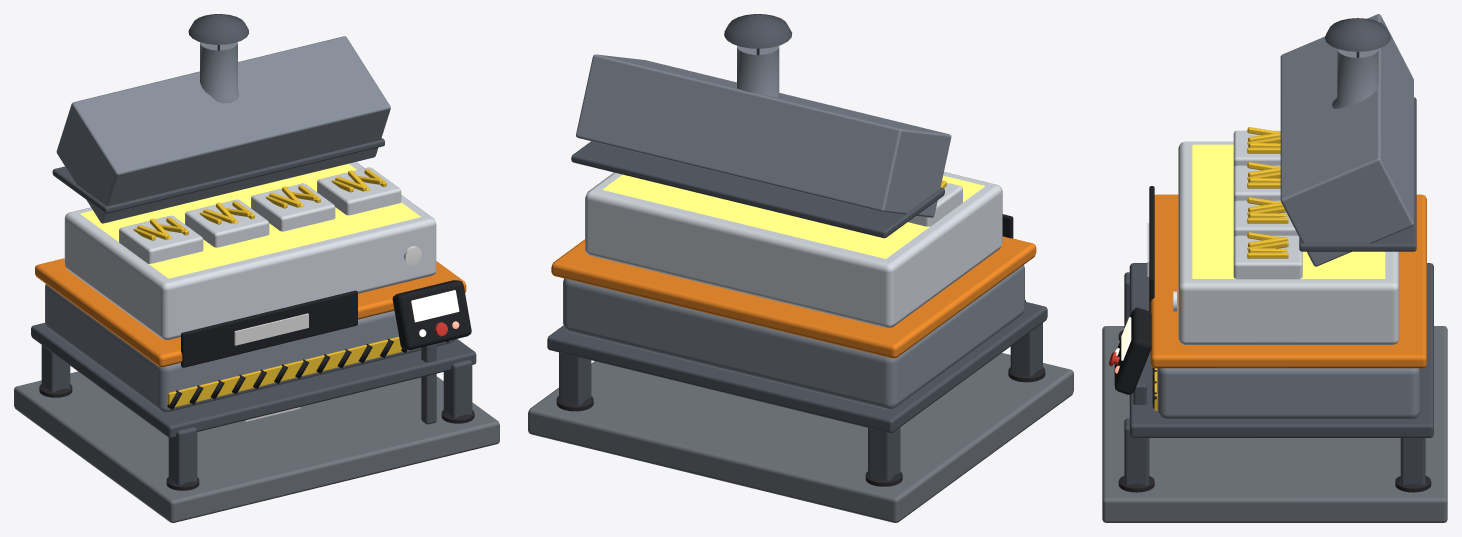
Rendered from Fryer.fbx.
3 renders of one model, left to right at view 1: azimuth 30°, elevation 25°; view 2: azimuth 150°, elevation 25°; view 3: azimuth 270°, elevation 25°, orthographic. The views are drawn at different scales.
Visible parts, largest first — view 1: Body__Steel, Body__Plate, Body__Chrome, Body__MetalDark, Body__Black, Body__NeonOrange, Body__Orange, Body__Yellow, Body__NeonOrange!1, Body__NeonGreen, Body__Rubber; view 2: Body__Steel, Body__Plate, Body__Chrome, Body__MetalDark, Body__Orange, Body__NeonOrange, Body__Rubber; view 3: Body__Steel, Body__Plate, Body__Chrome, Body__MetalDark, Body__Orange, Body__NeonOrange, Body__Yellow, Body__Black, Body__Rubber.
Part boxes in pixels (x1,y1,x2,y2): Body__Steel: (45, 36, 454, 412); Body__Plate: (14, 371, 499, 522); Body__Chrome: (64, 162, 436, 339); Body__MetalDark: (31, 14, 476, 485); Body__Black: (167, 280, 471, 409); Body__NeonOrange: (80, 164, 420, 278); Body__Orange: (35, 258, 466, 367); Body__Yellow: (133, 169, 408, 408); Body__NeonOrange!1: (234, 313, 308, 345); Body__NeonGreen: (411, 290, 459, 336); Body__Rubber: (39, 384, 474, 490); Body__Steel: (563, 45, 1024, 409); Body__Plate: (528, 353, 1073, 522); Body__Chrome: (585, 172, 1002, 327); Body__MetalDark: (547, 14, 1047, 480); Body__Orange: (551, 236, 1036, 358); Body__NeonOrange: (602, 174, 984, 258); Body__Rubber: (556, 367, 1045, 486); Body__Steel: (1157, 14, 1420, 419); Body__Plate: (1102, 326, 1447, 522); Body__Chrome: (1178, 130, 1399, 344); Body__MetalDark: (1124, 18, 1433, 485); Body__Orange: (1150, 194, 1426, 368); Body__NeonOrange: (1192, 144, 1385, 278); Body__Yellow: (1154, 127, 1288, 410); Body__Black: (1114, 186, 1156, 408); Body__Rubber: (1118, 330, 1431, 492).
Bounding box in the file's own units: 6 × 7.17 × 5.
